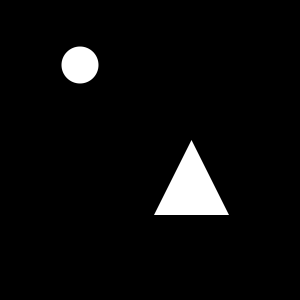rectangle: (61, 46, 98, 84)
triangle: (154, 140, 229, 215)
